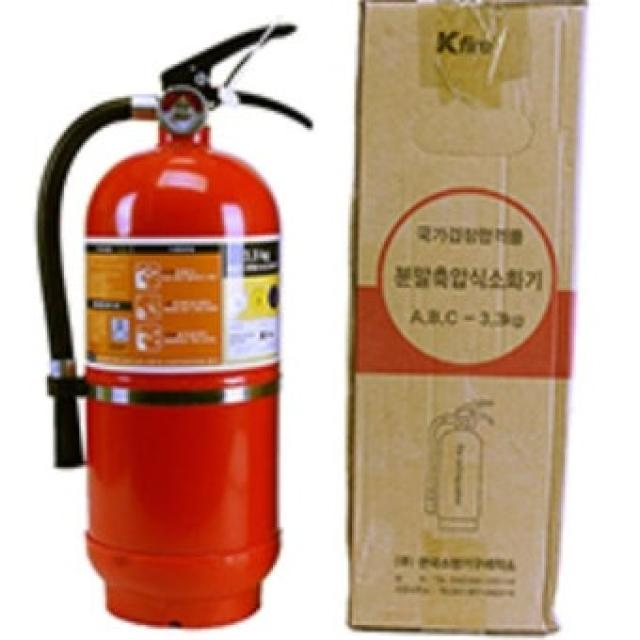pressure gauge: (164, 87, 201, 129)
